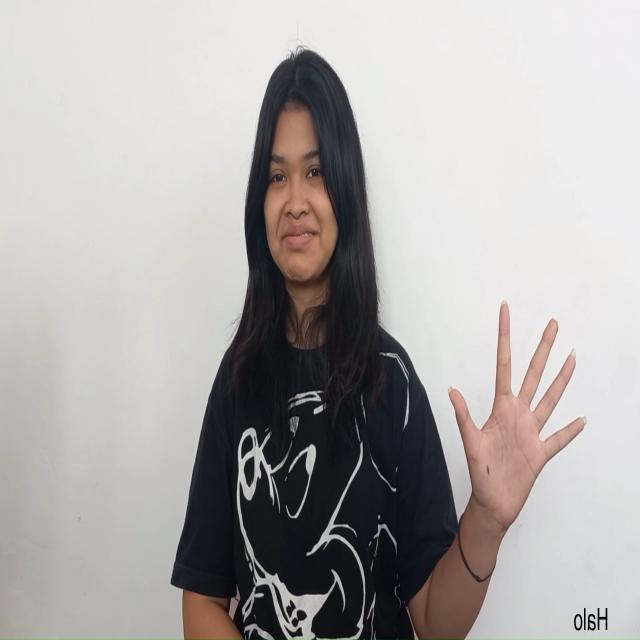Halo -BISINDO-: (448, 299, 586, 545)
